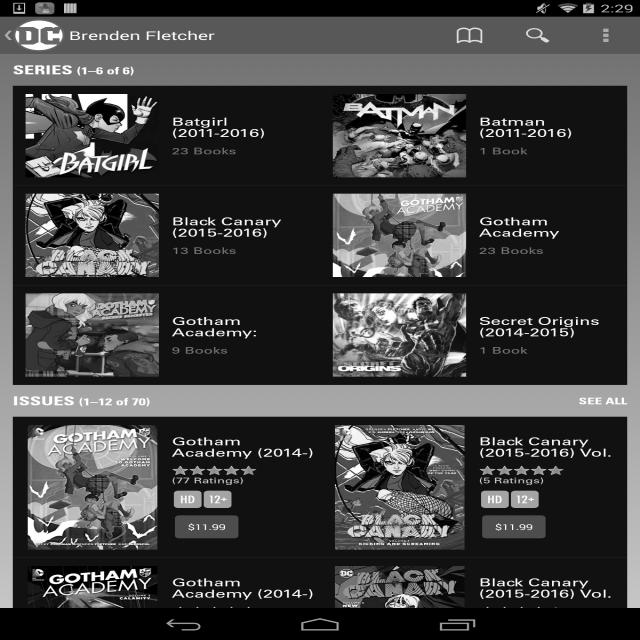Button: (172, 514, 242, 540), (479, 514, 549, 540)
ImageButton: (571, 16, 640, 54)
ImageView: (26, 425, 159, 550), (333, 425, 466, 550), (26, 293, 159, 377), (333, 293, 466, 377), (26, 94, 159, 177), (333, 94, 466, 177), (26, 194, 159, 277), (333, 194, 466, 277), (26, 566, 159, 640), (333, 566, 466, 640), (14, 19, 64, 52), (481, 491, 509, 508), (511, 491, 539, 508), (174, 491, 201, 508), (204, 491, 231, 508), (0, 30, 17, 41)
RatingBar: (172, 465, 257, 476), (479, 465, 564, 476), (172, 606, 257, 617), (479, 606, 564, 617)
TextView: (73, 64, 627, 77), (75, 395, 574, 408), (172, 214, 320, 240), (479, 214, 627, 240), (172, 434, 320, 460), (479, 434, 627, 460), (172, 575, 320, 601), (479, 575, 627, 601), (172, 115, 320, 140), (479, 115, 627, 140), (172, 314, 320, 339), (479, 314, 627, 339), (435, 17, 504, 54), (503, 17, 572, 54), (69, 27, 215, 43), (12, 393, 74, 409), (13, 62, 72, 78), (172, 145, 236, 157), (172, 245, 236, 256), (479, 245, 543, 256), (172, 476, 244, 485), (172, 345, 228, 356), (479, 476, 544, 485), (479, 145, 527, 157), (579, 395, 627, 407), (479, 345, 527, 356)
